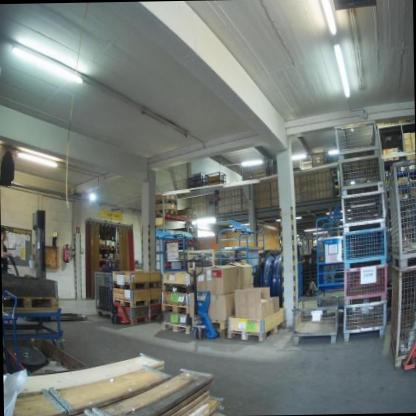pallet: (226, 319, 286, 344), (1, 294, 58, 311), (111, 278, 162, 292), (111, 295, 161, 309), (129, 311, 163, 327), (160, 300, 192, 316), (160, 280, 193, 294), (160, 321, 192, 335), (156, 208, 177, 215)
pallet_truck: (182, 257, 220, 341), (107, 279, 129, 325), (399, 333, 416, 378)
stillage: (387, 155, 416, 270), (387, 260, 416, 372), (292, 293, 337, 345), (341, 187, 387, 233), (336, 118, 382, 158), (343, 263, 388, 303), (341, 229, 389, 266), (343, 301, 386, 341), (336, 157, 385, 191), (94, 271, 113, 318)
